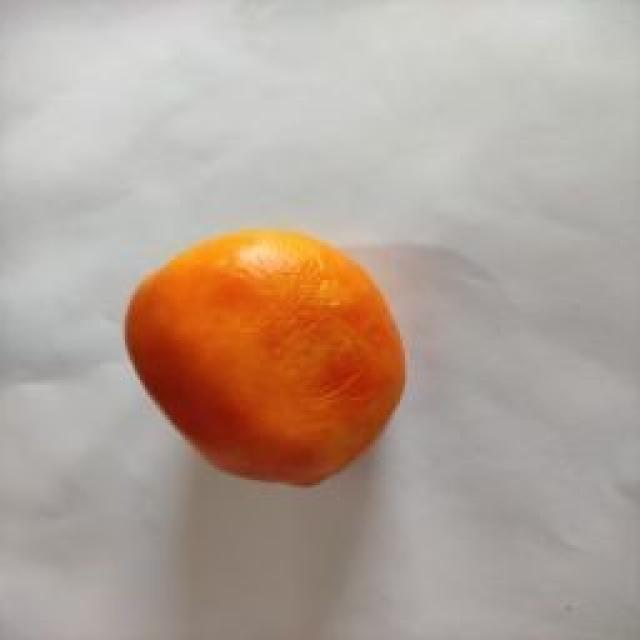Ripe: (121, 223, 411, 488)
